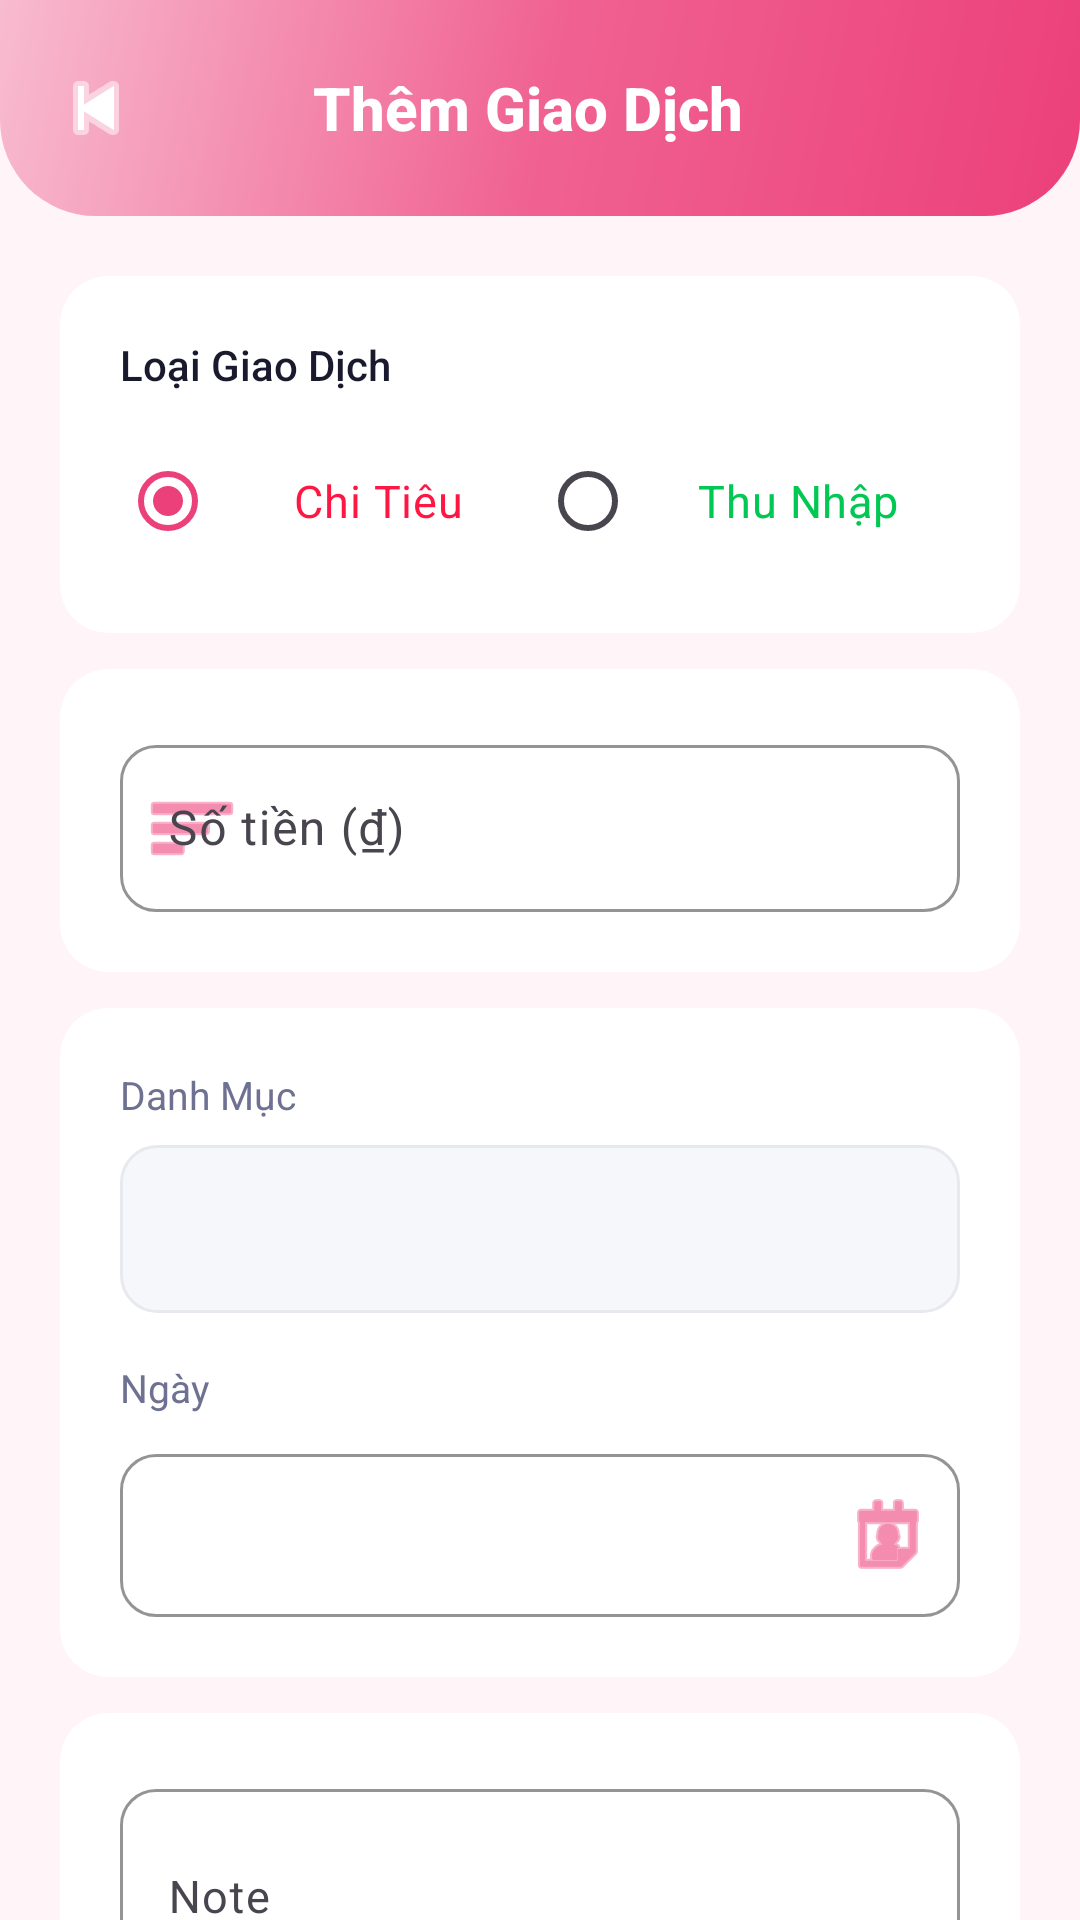

Screen size 1080*1920. Icon name, then its center in pixels as (x,y):
Back: (96,108)
